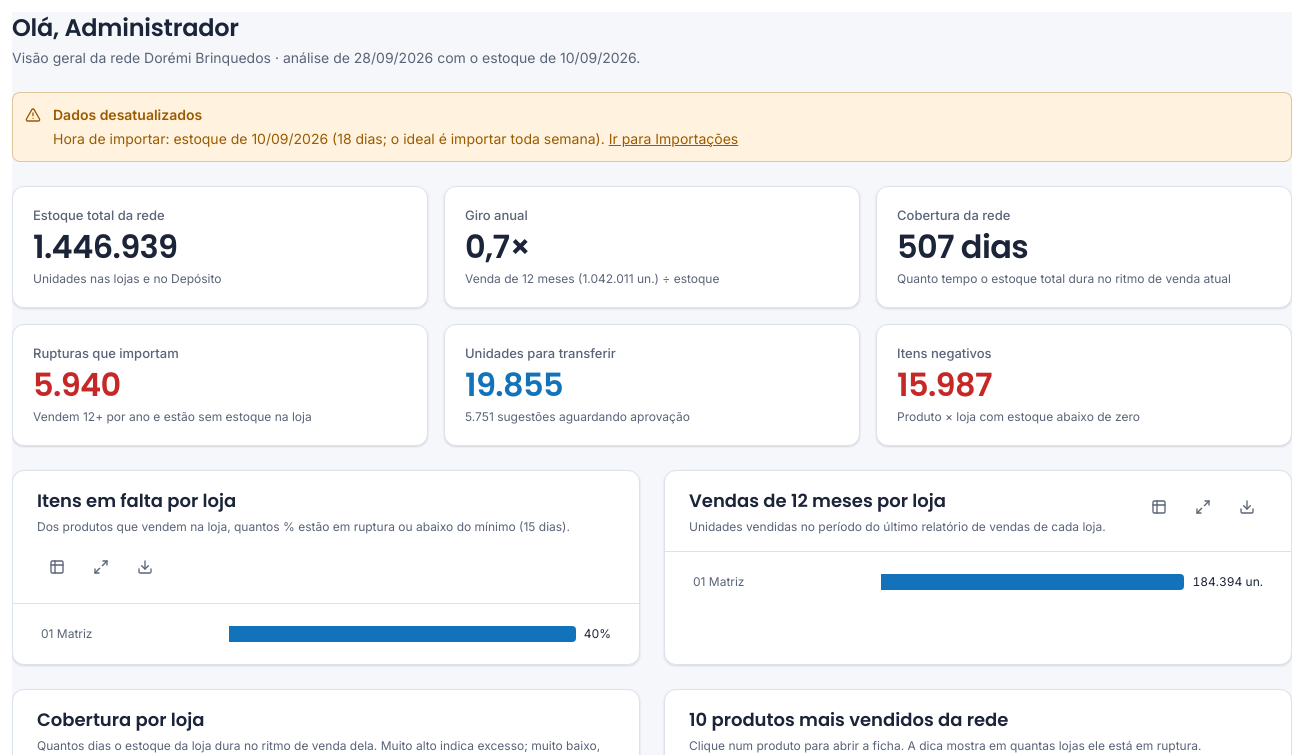
DashboardPage › gráfico de falta por loja ignora o Depósito e tem visão em tabela
Expected: the element named "01 Matriz: 40%" is shown, [41,626,611,642]
Click the button named "Ver tabela: Itens em falta por loja" at (57, 567), box [37,547,77,587]
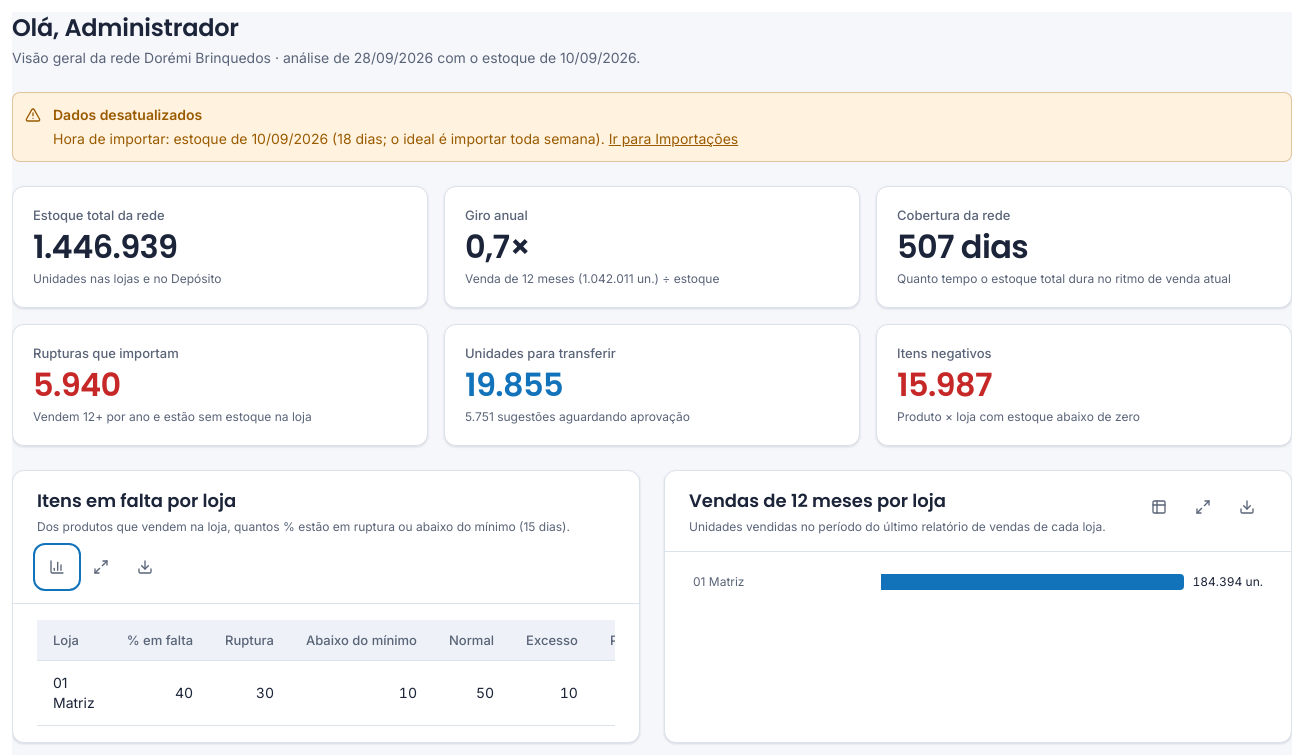
Expected: the table named "Itens em falta por loja" is shown, [37,620,615,726]
